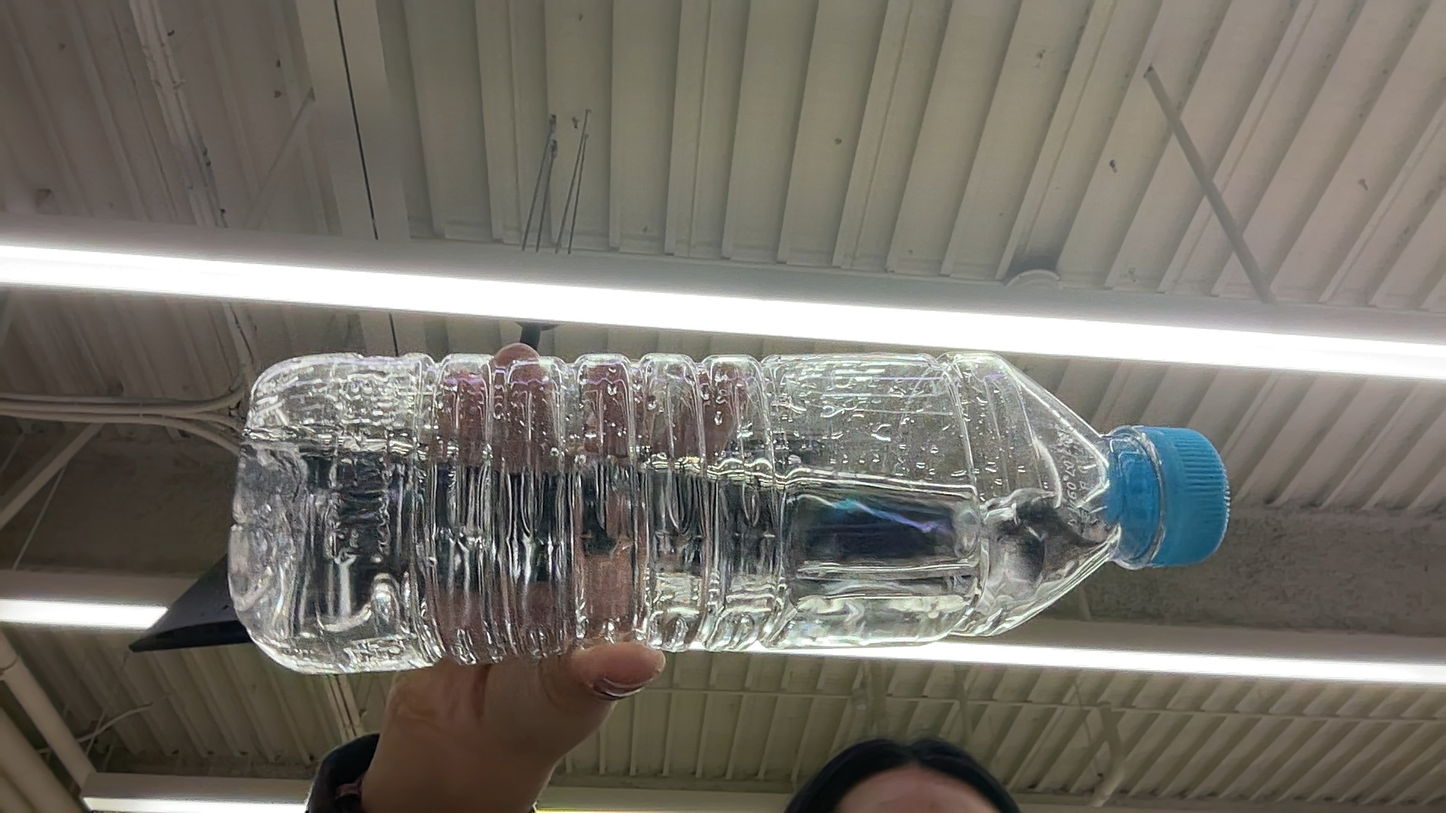Plastic: (5, 412, 229, 607)
